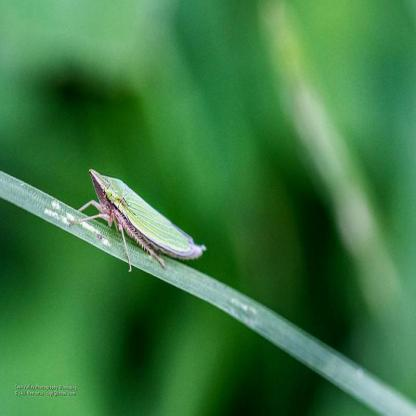green-leafhopper: (84, 166, 205, 274)
